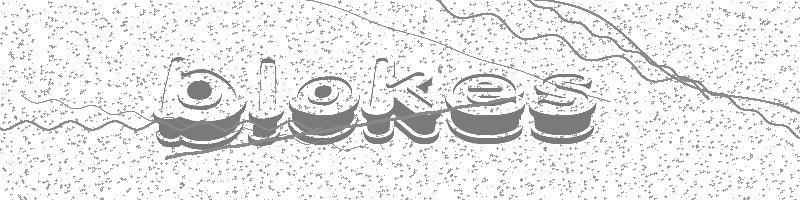b: (151, 50, 248, 151)
e: (445, 66, 527, 147)
k: (362, 52, 443, 147)
l: (247, 52, 287, 146)
o: (288, 69, 363, 151)
s: (528, 68, 600, 146)
